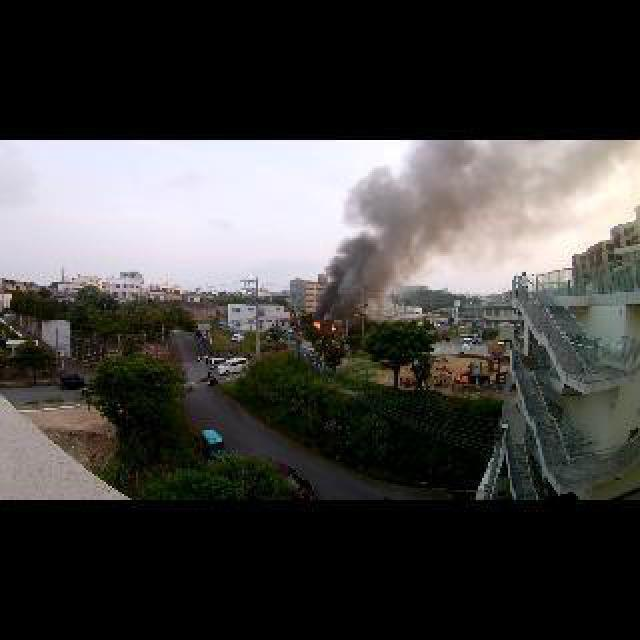Fire: (310, 318, 318, 326), (328, 324, 336, 332)
Smoke: (399, 142, 595, 246), (320, 192, 414, 316)
